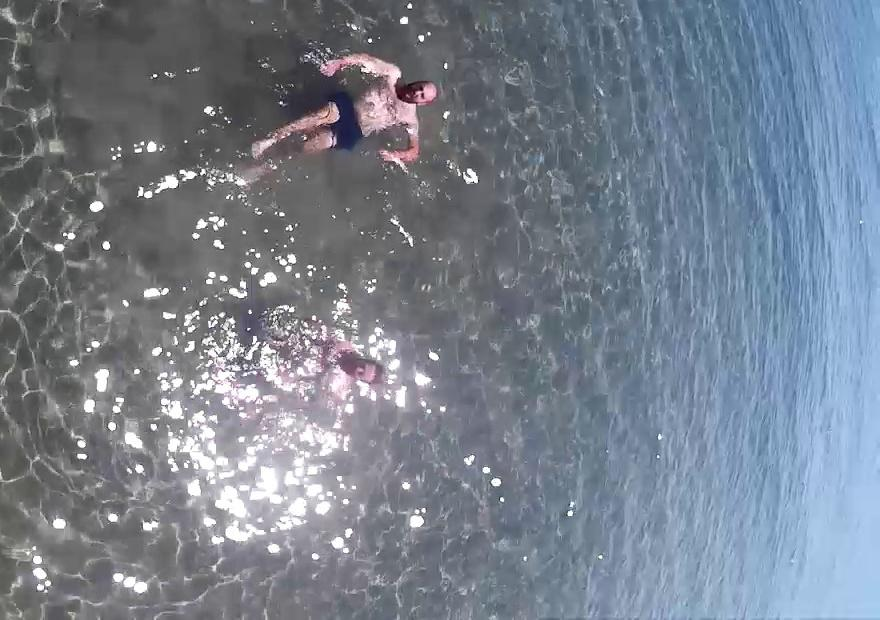swimmer: (224, 29, 426, 191), (254, 298, 412, 420)
